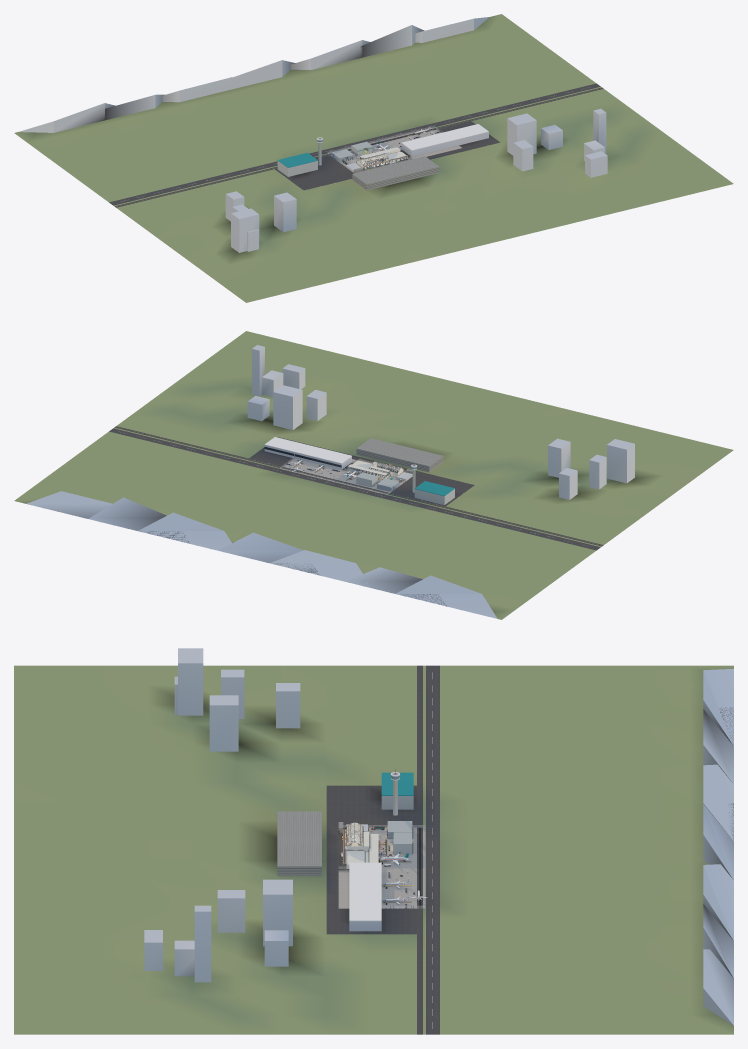
The model's file is airport.glb.
3 views of the same model, one above another, from view 1: azimuth 30°, elevation 25°; view 2: azimuth 150°, elevation 25°; view 3: azimuth 270°, elevation 25° (orthographic). The views are drawn at different scales.
Parts seen in each view (by area): view 1: backdrop_grass, backdrop_far_build, backdrop_asphalt, backdrop_block, backdrop_white_steel, terrain_concrete; view 2: backdrop_grass, backdrop_far_build, backdrop_asphalt, backdrop_block, terrain_concrete, backdrop_white_steel; view 3: backdrop_grass, backdrop_far_build, backdrop_asphalt, backdrop_block, terrain_concrete, backdrop_white_steel, airside_metal_sheet, terminal_plaster, terrain_asphalt, backdrop_teal.
Boxes of the visible parts, bbox=[...] form: backdrop_grass: bbox=[14, 14, 733, 302]; backdrop_far_build: bbox=[19, 17, 607, 252]; backdrop_asphalt: bbox=[109, 83, 603, 207]; backdrop_block: bbox=[352, 156, 439, 190]; backdrop_white_steel: bbox=[317, 124, 488, 150]; terrain_concrete: bbox=[328, 127, 461, 166]; backdrop_grass: bbox=[14, 331, 733, 619]; backdrop_far_build: bbox=[26, 345, 634, 618]; backdrop_asphalt: bbox=[109, 426, 603, 550]; backdrop_block: bbox=[356, 438, 443, 472]; terrain_concrete: bbox=[281, 458, 405, 494]; backdrop_white_steel: bbox=[264, 437, 416, 469]; backdrop_grass: bbox=[14, 665, 733, 1034]; backdrop_far_build: bbox=[144, 648, 733, 1025]; backdrop_asphalt: bbox=[326, 665, 439, 1034]; backdrop_block: bbox=[277, 811, 321, 876]; terrain_concrete: bbox=[338, 827, 425, 908]; backdrop_white_steel: bbox=[349, 772, 400, 921]; airside_metal_sheet: bbox=[387, 821, 412, 854]; terminal_plaster: bbox=[346, 822, 369, 868]; terrain_asphalt: bbox=[338, 827, 422, 908]; backdrop_teal: bbox=[381, 772, 413, 795].
Size of the model in its own units: 1140 by 106 by 940.
Materials: 57 (23 with a texture image).
